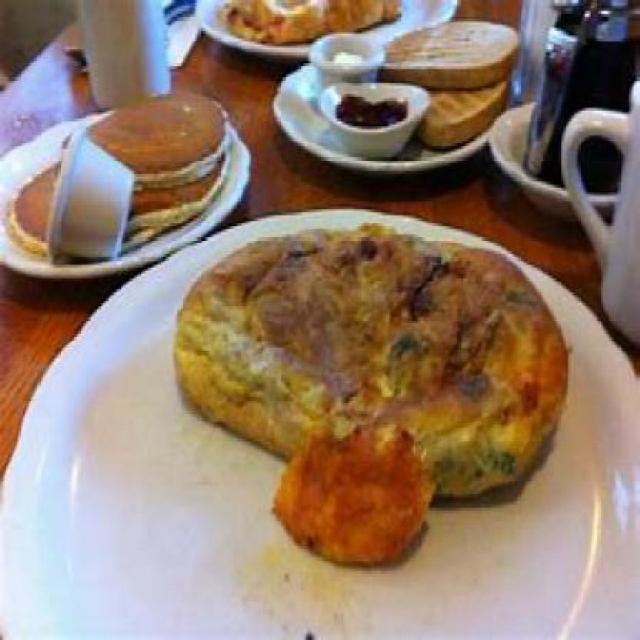ice cream: (321, 40, 368, 68)
omelette: (170, 223, 568, 500)
pancakes: (4, 82, 228, 248)
